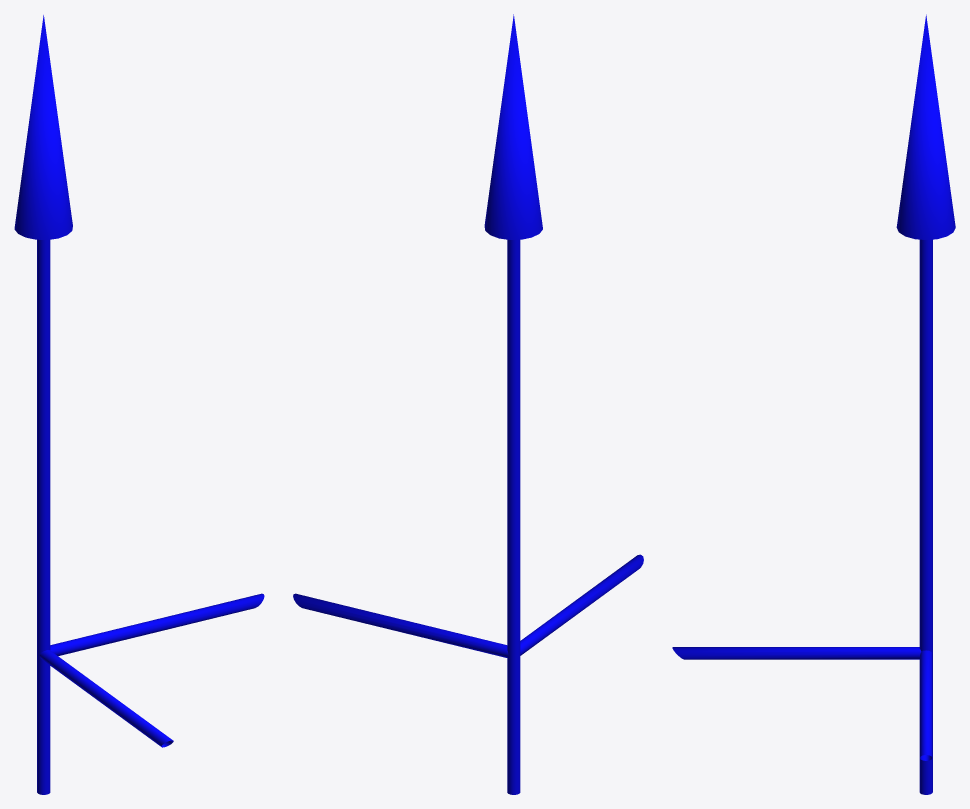
File: Translate_Z.glb
The picture shows the model from 3 angles, left to right: view 1: azimuth 30°, elevation 25°; view 2: azimuth 150°, elevation 25°; view 3: azimuth 270°, elevation 25°; orthographic projection.
Parts seen in each view (by area): view 1: Translate_Z; view 2: Translate_Z; view 3: Translate_Z.
Boxes of the visible parts, x1,y1,x2,y2 form: Translate_Z: (14, 15, 264, 794); Translate_Z: (293, 14, 643, 794); Translate_Z: (672, 14, 955, 794).
Size of the model in its own units: 0.0449 by 0.1359 by 0.0449.
